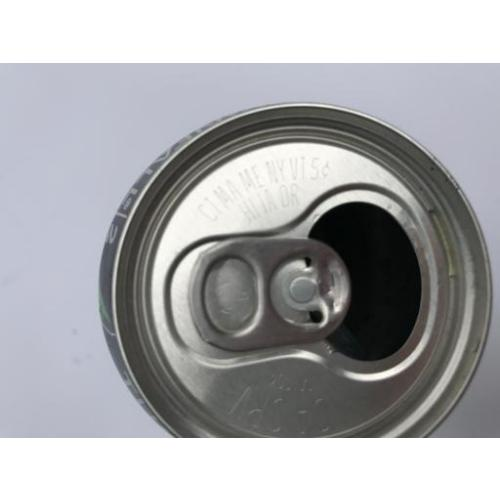metal: (101, 102, 491, 439)
